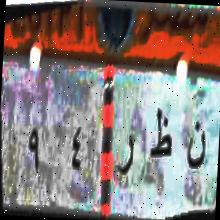4: (62, 118, 91, 186)
9: (17, 113, 48, 181)
Thaa: (144, 100, 176, 170)
noon: (182, 106, 210, 180)
raa: (113, 120, 140, 187)
